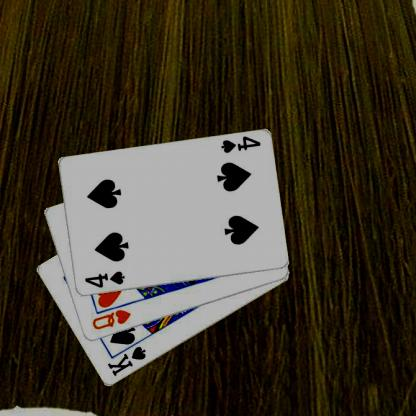4S: (218, 134, 261, 155), (82, 269, 125, 289)
KS: (105, 344, 147, 378)
QH: (90, 308, 132, 332)
